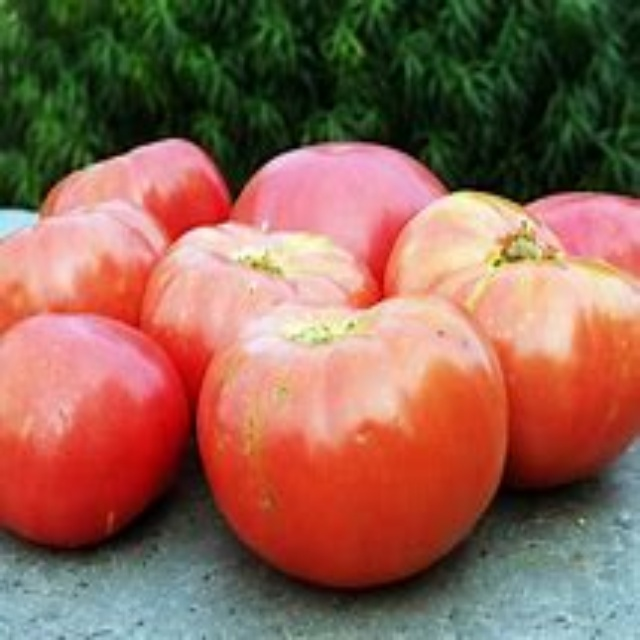tomato: (199, 315, 500, 578), (8, 318, 180, 558), (122, 214, 373, 376), (454, 262, 639, 479), (254, 137, 447, 276), (10, 194, 164, 331)
